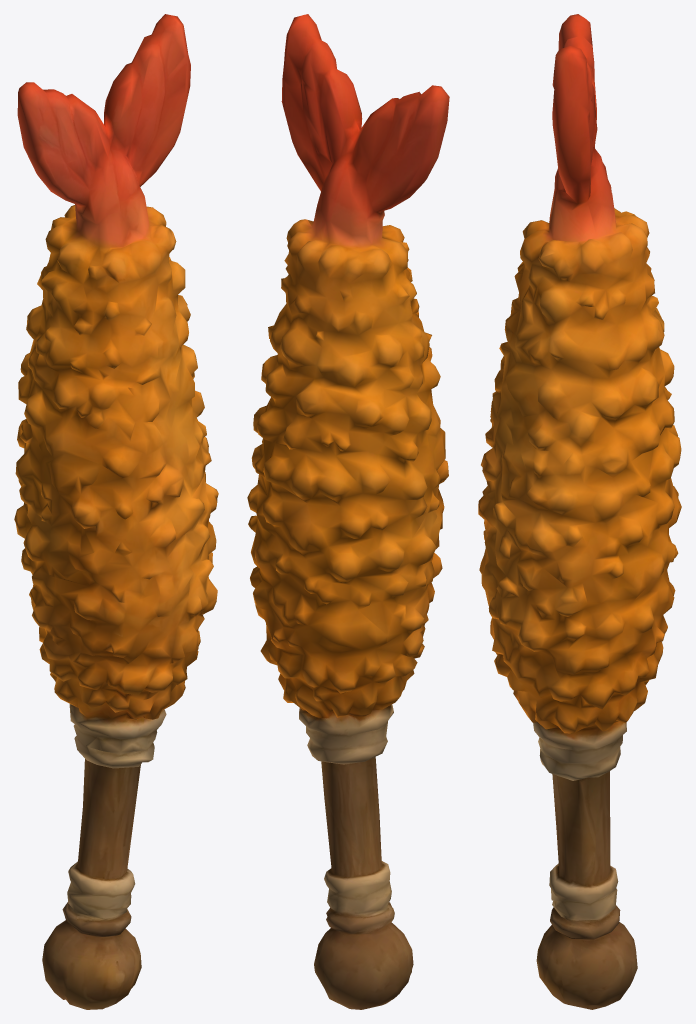
Rendered from ebi_lance.glb.
3 renders of one model, left to right at view 1: azimuth 30°, elevation 25°; view 2: azimuth 150°, elevation 25°; view 3: azimuth 270°, elevation 25°, orthographic. The views are drawn at different scales.
Parts seen in each view (by area): view 1: tripo_node_978b4d3f-b049-42b3-8200-ea0ce37a5adb; view 2: tripo_node_978b4d3f-b049-42b3-8200-ea0ce37a5adb; view 3: tripo_node_978b4d3f-b049-42b3-8200-ea0ce37a5adb.
Boxes of the visible parts, x1,y1,x2,y2 form: tripo_node_978b4d3f-b049-42b3-8200-ea0ce37a5adb: (14,14,218,1009); tripo_node_978b4d3f-b049-42b3-8200-ea0ce37a5adb: (247,14,449,1009); tripo_node_978b4d3f-b049-42b3-8200-ea0ce37a5adb: (478,14,681,1009).
Size of the model in its own units: 0.2003 by 0.9998 by 0.1859.
1 material, 1 textured.
